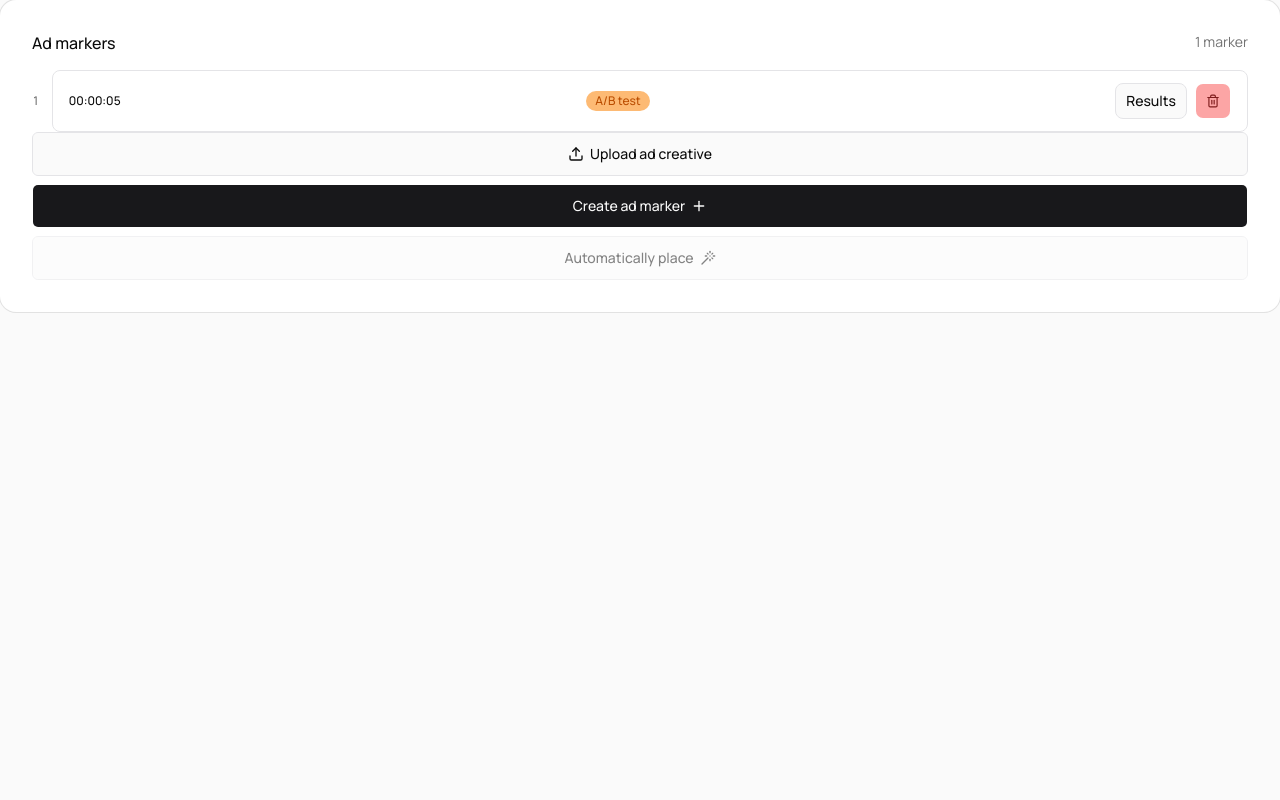
Test case: ExperimentResultsDialog via MarkerPanel › opens the results dialog when clicking Results on an A/B marker
Step 1. Click the button "Results" → [1151, 101], box [1115, 83, 1187, 119]
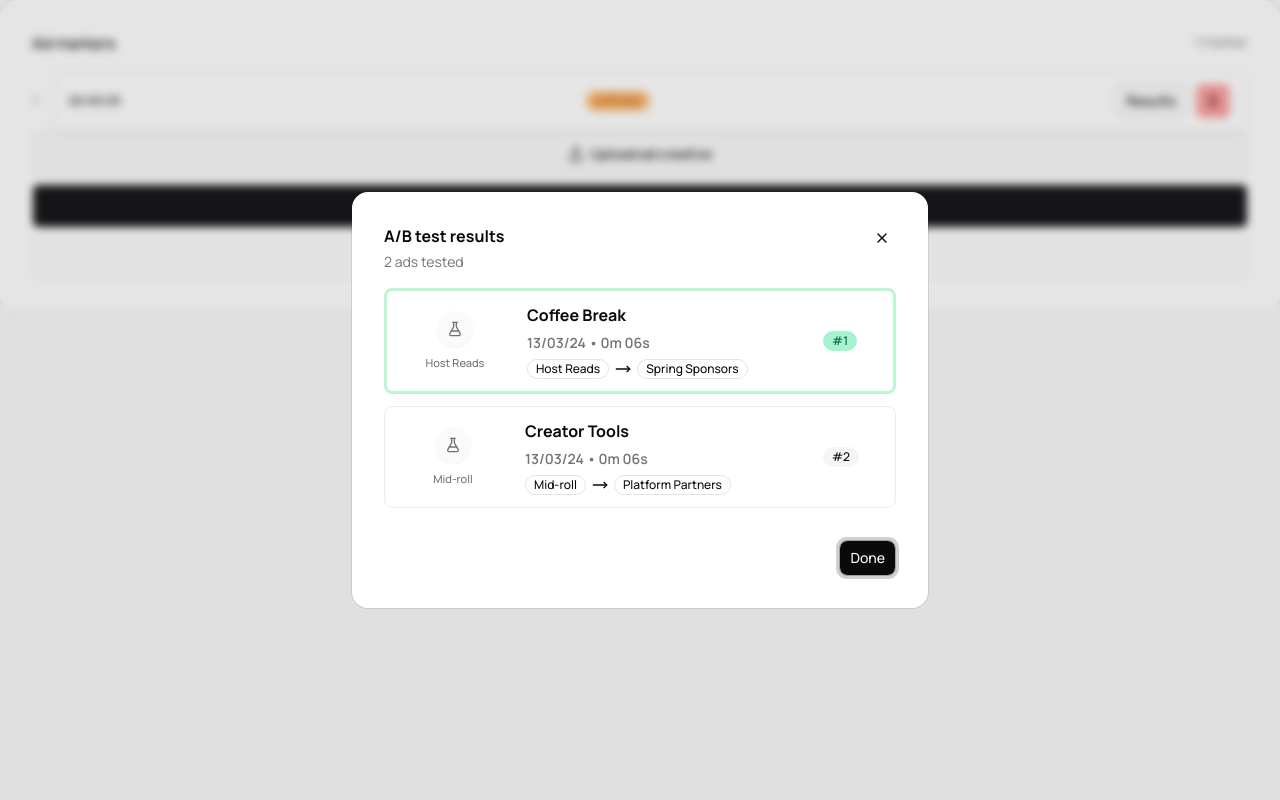
Check: the heading "A/B test results" is shown, box [384, 225, 504, 247]
Check: the text "2 ads tested" is shown, box [384, 252, 464, 271]
Check: the heading "Creator Tools" is shown, box [525, 420, 629, 442]
